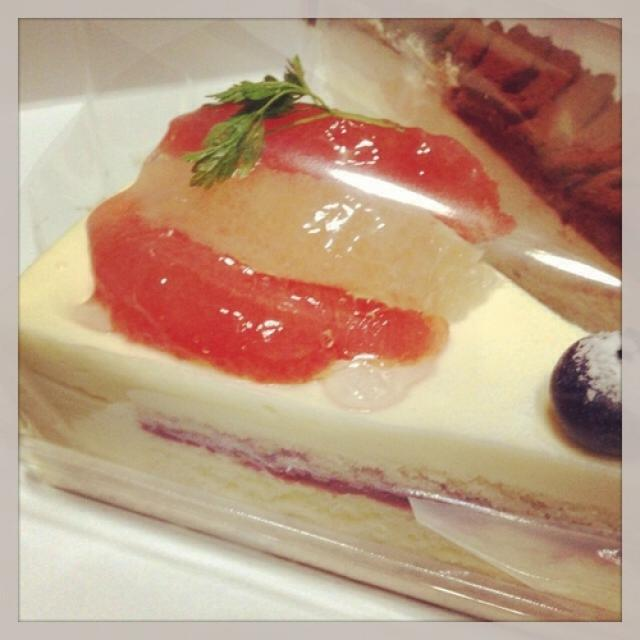Rare cheese cake: (22, 72, 621, 611)
